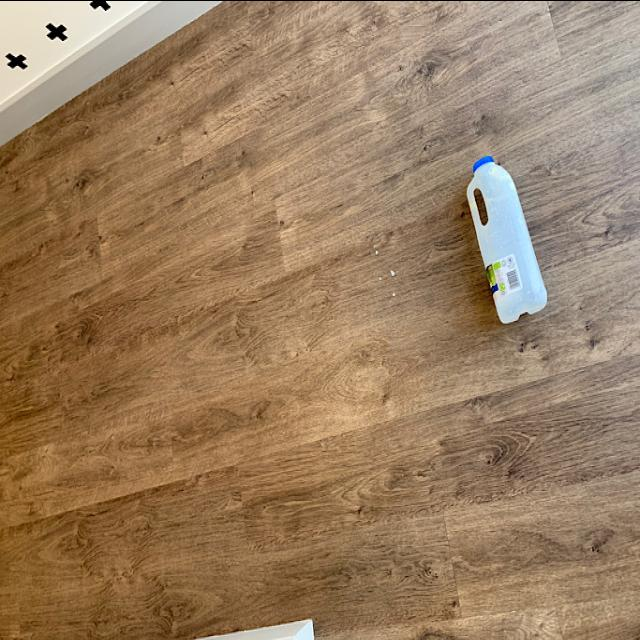HDPEM: (464, 152, 550, 328)
